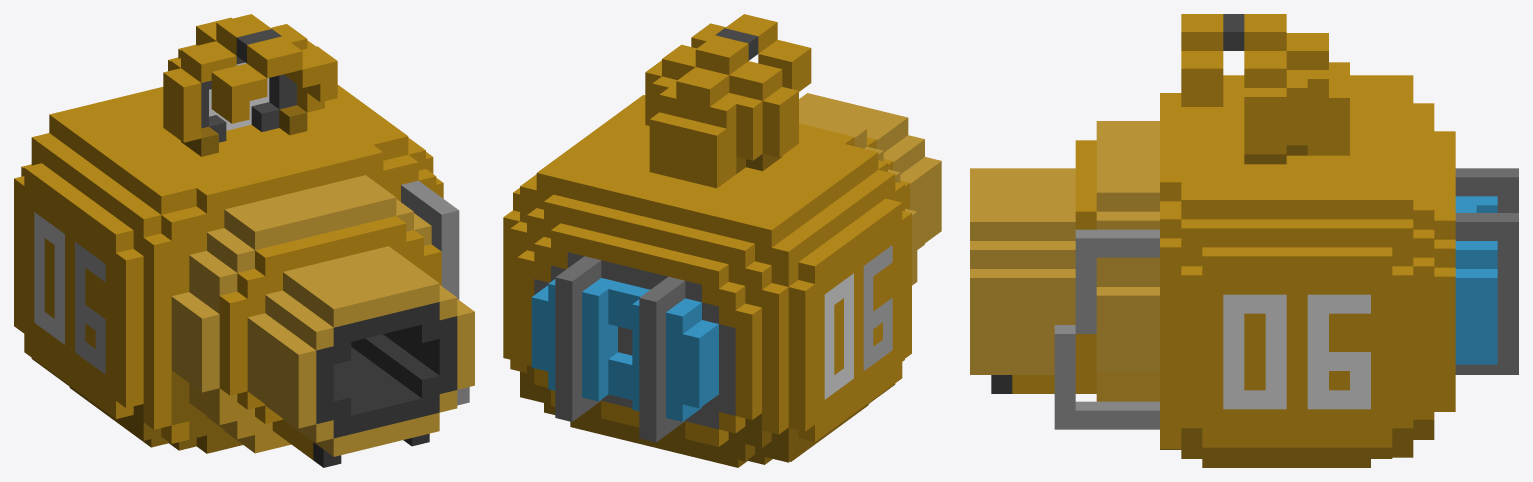
The model's file is Tank_Player_Top.fbx.
3 renders of one model, left to right at view 1: azimuth 30°, elevation 25°; view 2: azimuth 150°, elevation 25°; view 3: azimuth 270°, elevation 25°, orthographic. The views are drawn at different scales.
Visible parts, largest first — view 1: Matrix_2; view 2: Matrix_2; view 3: Matrix_2.
Boxes of the visible parts, x1,y1,x2,y2 form: Matrix_2: (14,14,474,467); Matrix_2: (503,14,941,467); Matrix_2: (970,14,1518,467).
Size of the model in its own units: 18 by 20 by 26.
